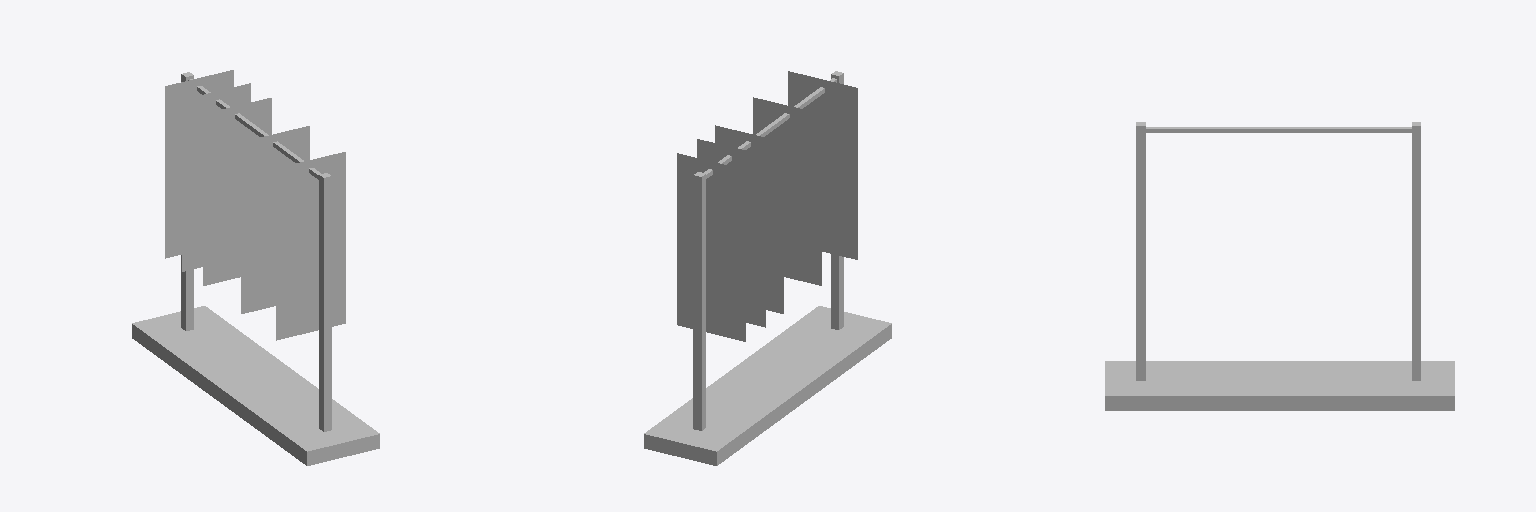
File: rack.obj
3 views of the same model, side by side, from view 1: azimuth 30°, elevation 25°; view 2: azimuth 150°, elevation 25°; view 3: azimuth 270°, elevation 25° (orthographic).
Visible parts, largest first — view 1: Cube_Cube.001, Plane.004_Plane.016, Plane.003_Plane.015, Plane.006_Plane.017, Plane.002, Plane.001_Plane.014, Plane_Plane.012; view 2: Cube_Cube.001, Plane_Plane.012, Plane.006_Plane.017, Plane.004_Plane.016, Plane.002, Plane.001_Plane.014, Plane.003_Plane.015; view 3: Cube_Cube.001, Plane.002.
Part boxes in pixels (bbox=[...]): Cube_Cube.001: bbox=[132, 306, 379, 465]; Plane.004_Plane.016: bbox=[276, 152, 345, 340]; Plane.003_Plane.015: bbox=[203, 98, 271, 285]; Plane.006_Plane.017: bbox=[241, 126, 309, 313]; Plane.002: bbox=[181, 72, 331, 431]; Plane.001_Plane.014: bbox=[182, 83, 250, 271]; Plane_Plane.012: bbox=[165, 70, 233, 258]; Cube_Cube.001: bbox=[644, 306, 891, 465]; Plane_Plane.012: bbox=[677, 153, 745, 341]; Plane.006_Plane.017: bbox=[753, 97, 821, 285]; Plane.004_Plane.016: bbox=[788, 71, 857, 259]; Plane.002: bbox=[693, 71, 843, 430]; Plane.001_Plane.014: bbox=[697, 139, 765, 327]; Plane.003_Plane.015: bbox=[715, 125, 783, 313]; Cube_Cube.001: bbox=[1105, 361, 1454, 410]; Plane.002: bbox=[1136, 122, 1420, 380].
Bounding box in the file's own units: 1.43 × 5.13 × 5.94.